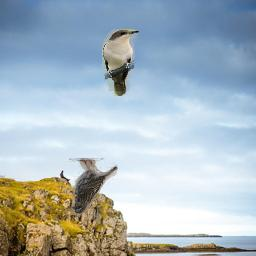Cuckoo: (103, 30, 140, 97)
Sparrow: (70, 158, 119, 216)
